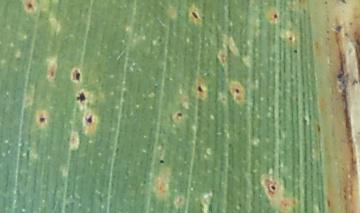tarspot: (77, 92, 86, 103), (268, 182, 277, 193), (190, 9, 198, 20), (26, 2, 34, 10), (87, 114, 93, 124), (197, 85, 204, 93), (291, 46, 298, 54), (75, 72, 81, 81), (287, 34, 293, 42), (158, 158, 165, 164), (176, 111, 183, 117), (338, 1, 348, 5), (39, 117, 45, 123), (272, 13, 278, 19), (235, 87, 240, 94)
